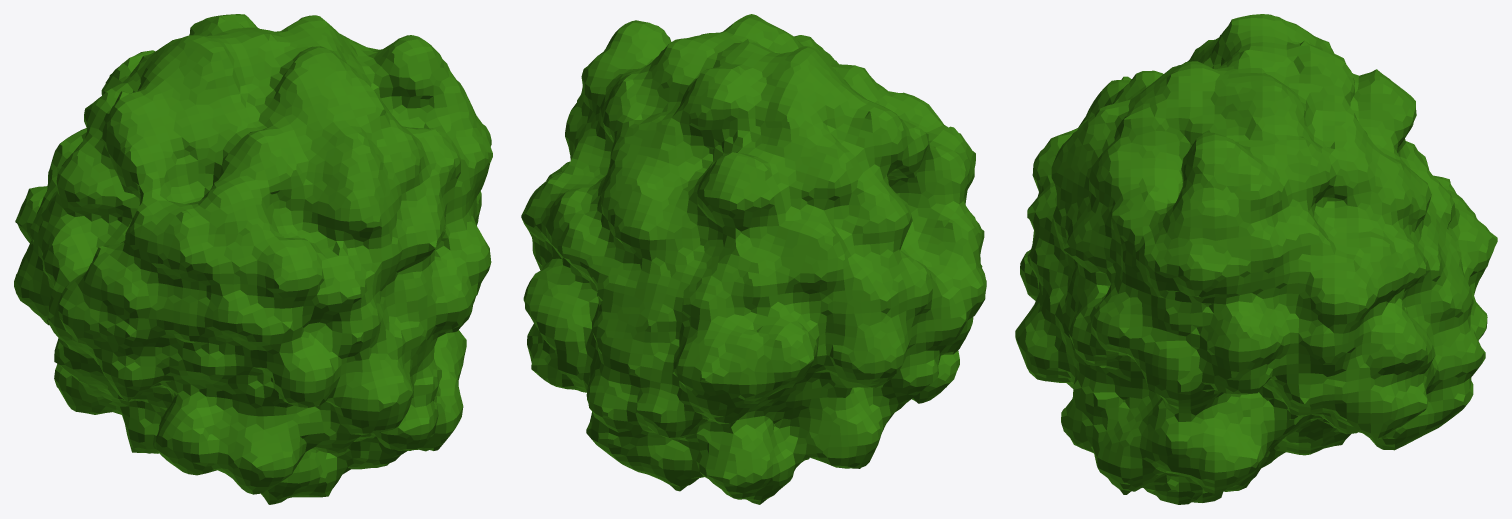
Rendered from Bush.fbx.
3 renders of one model, left to right at view 1: azimuth 30°, elevation 25°; view 2: azimuth 150°, elevation 25°; view 3: azimuth 270°, elevation 25°, orthographic.
Parts seen in each view (by area): view 1: Bush; view 2: Bush; view 3: Bush.
Part boxes in pixels (<box>): Bush: <box>14,14,492,504</box>; Bush: <box>521,14,986,504</box>; Bush: <box>1015,14,1497,504</box>.
Size of the model in its own units: 1225 by 1236 by 1205.
